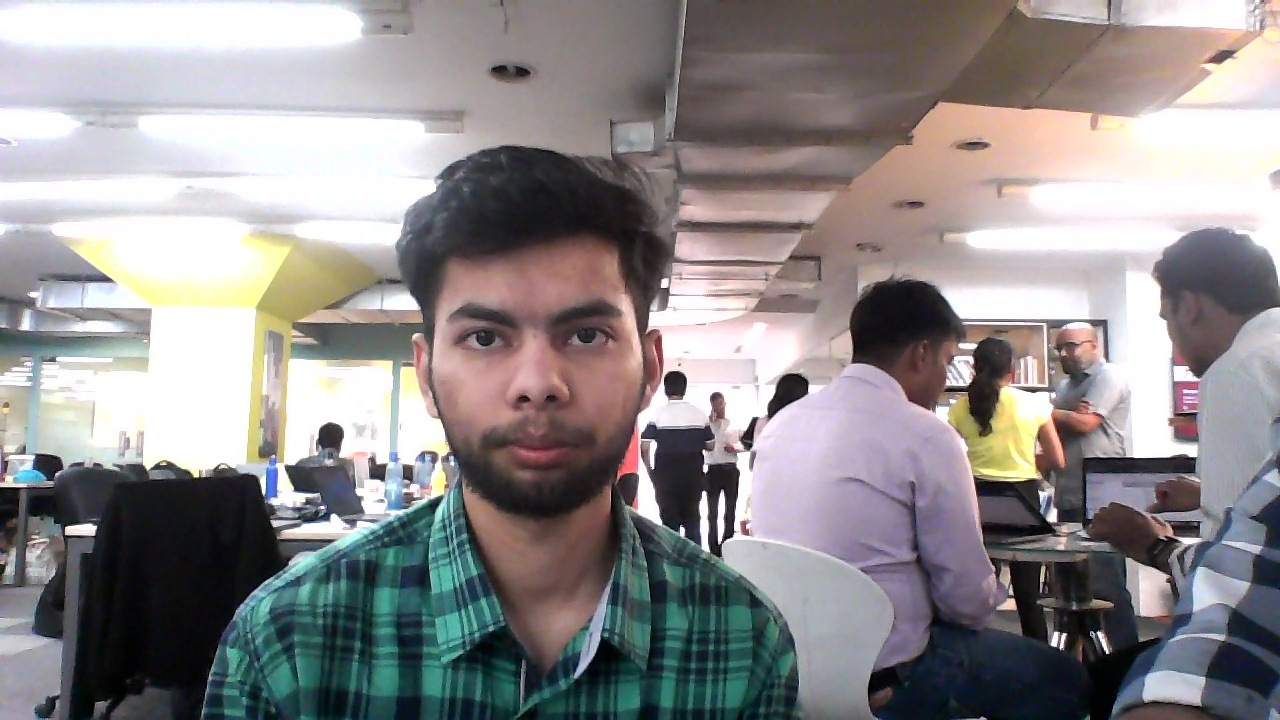open: (413, 158, 648, 516)
